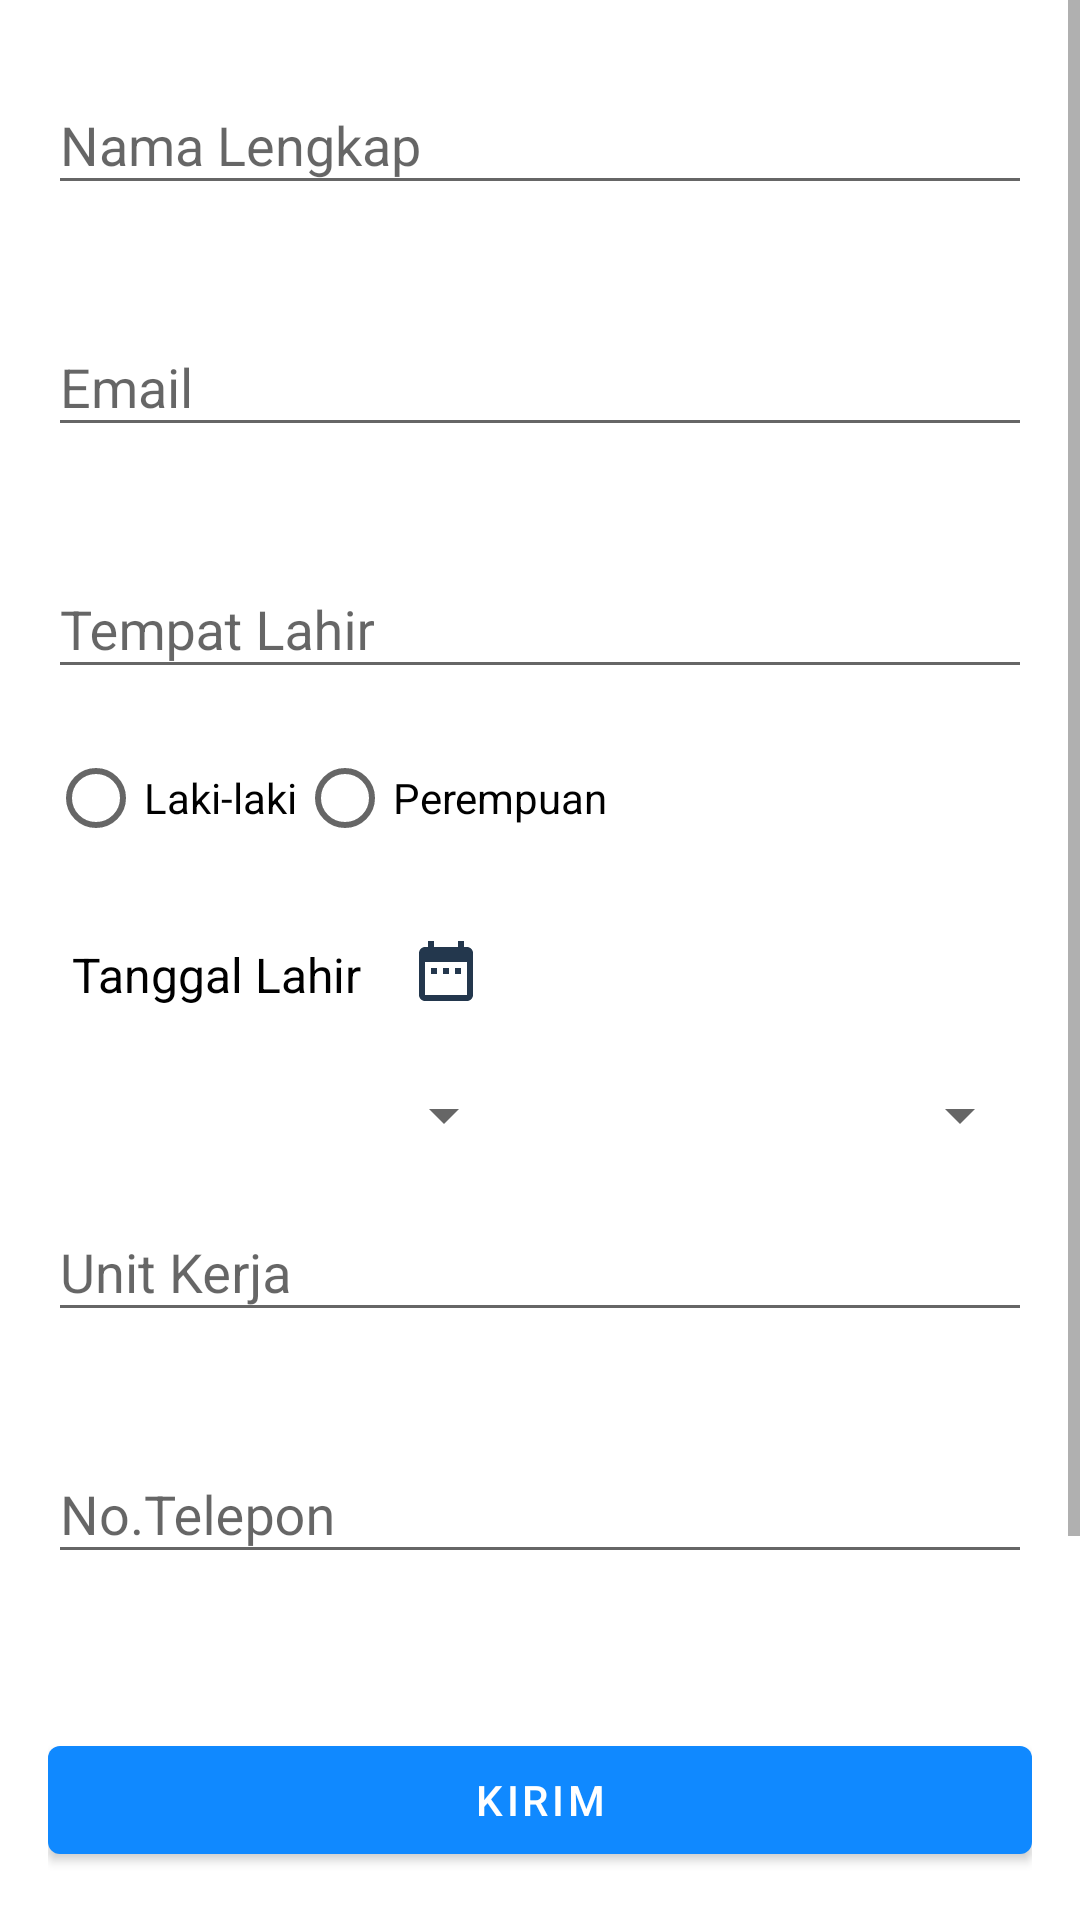

Icon bounding boxes for this 1080x1920 phone screenshot, format [left=x1, top=y1, right=x2, bottom=y2]:
date range: [left=419, top=941, right=473, bottom=1001]
